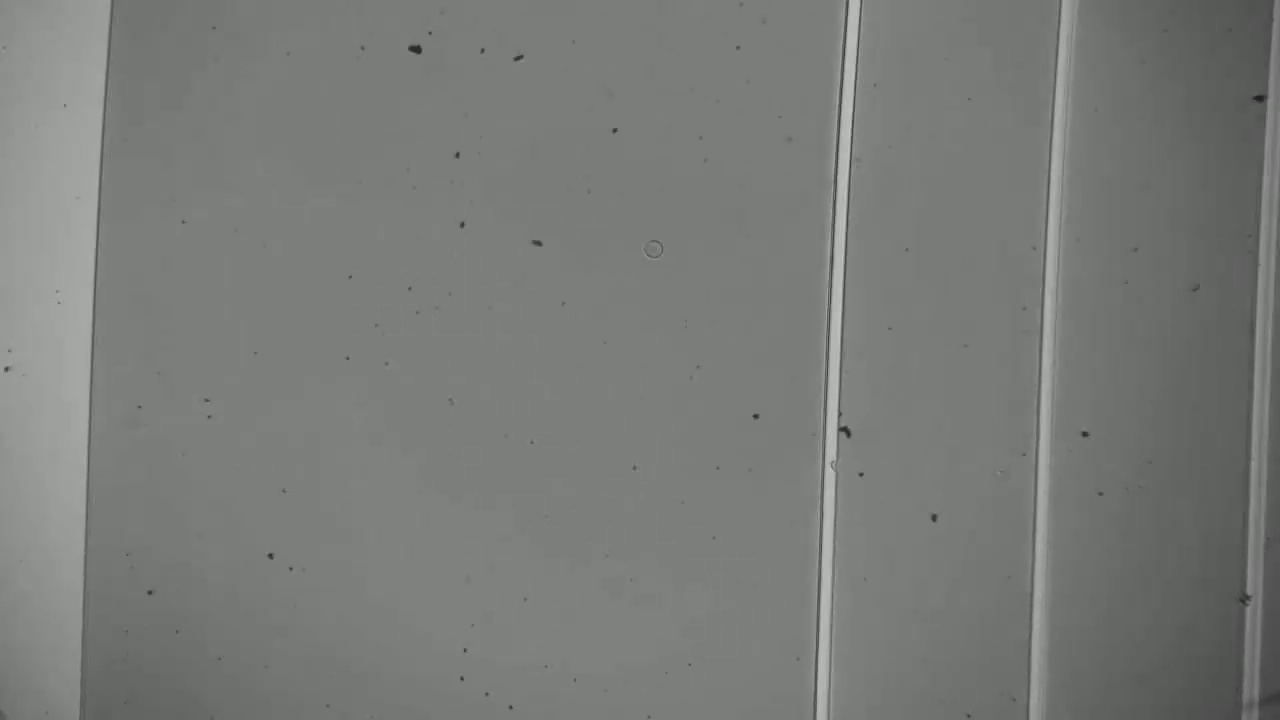edge_bite: (817, 454, 841, 482)
stains_enbedded: (1233, 586, 1269, 613)
